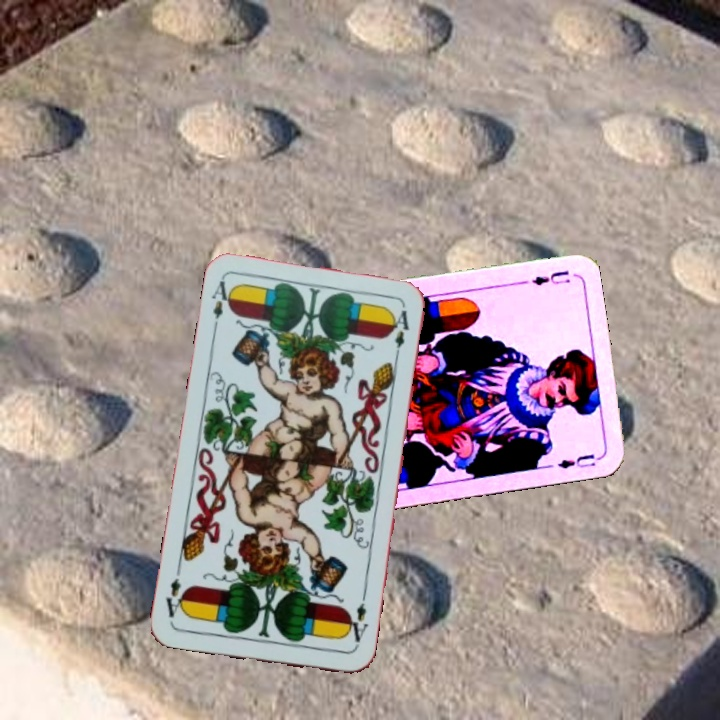EA: (207, 276, 237, 334), (342, 592, 371, 651)
EU: (528, 266, 573, 288)
